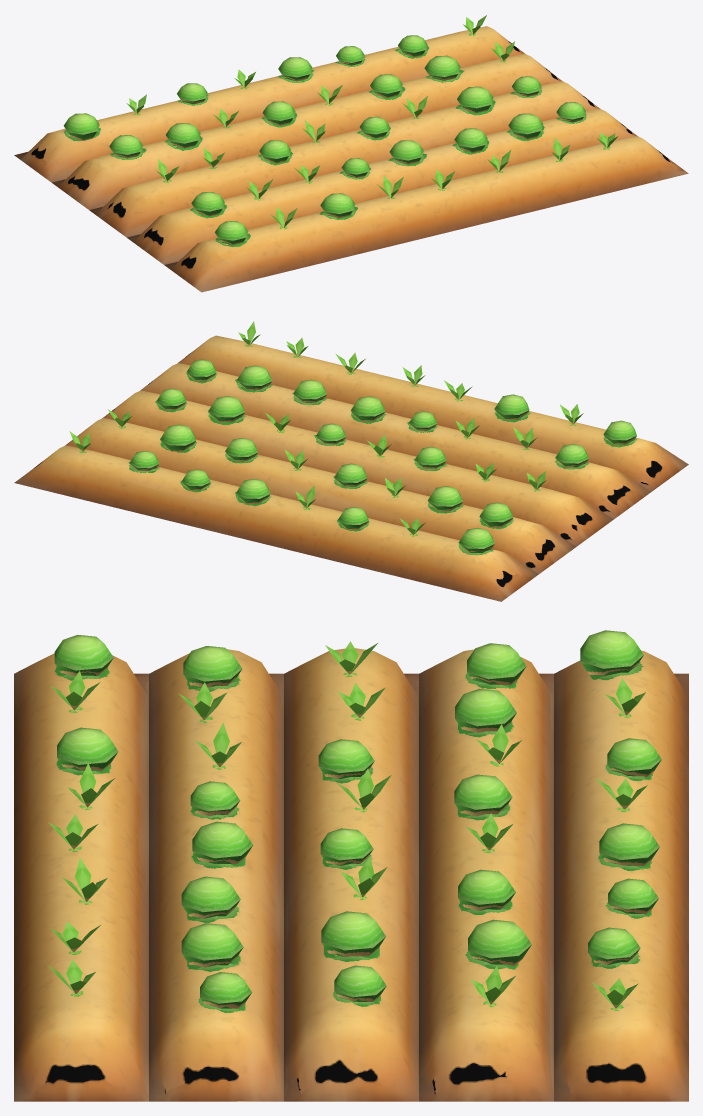
The model's file is crop_row.glb.
3 views of the same model, one above another, from view 1: azimuth 30°, elevation 25°; view 2: azimuth 150°, elevation 25°; view 3: azimuth 270°, elevation 25° (orthographic). The views are drawn at different scales.
Parts seen in each view (by area): view 1: crop_row_game; view 2: crop_row_game; view 3: crop_row_game.
Part boxes in pixels (x1,y1,x2,y2): crop_row_game: (14,15,688,292); crop_row_game: (14,321,688,601); crop_row_game: (14,630,688,1101).
Bounding box in the file's own units: 3 × 0.2721 × 2.
Materials: 1 (1 with a texture image).
